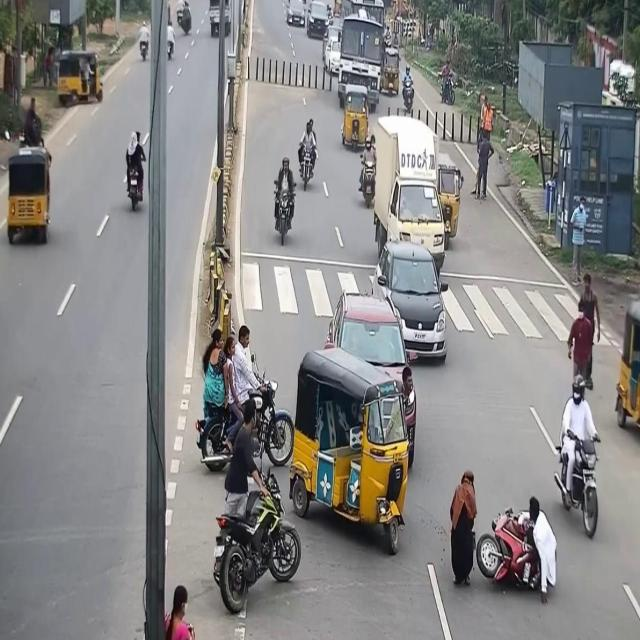accident: (433, 465, 567, 611)
non_accident: (356, 105, 460, 371), (313, 12, 435, 144), (278, 0, 329, 37)
